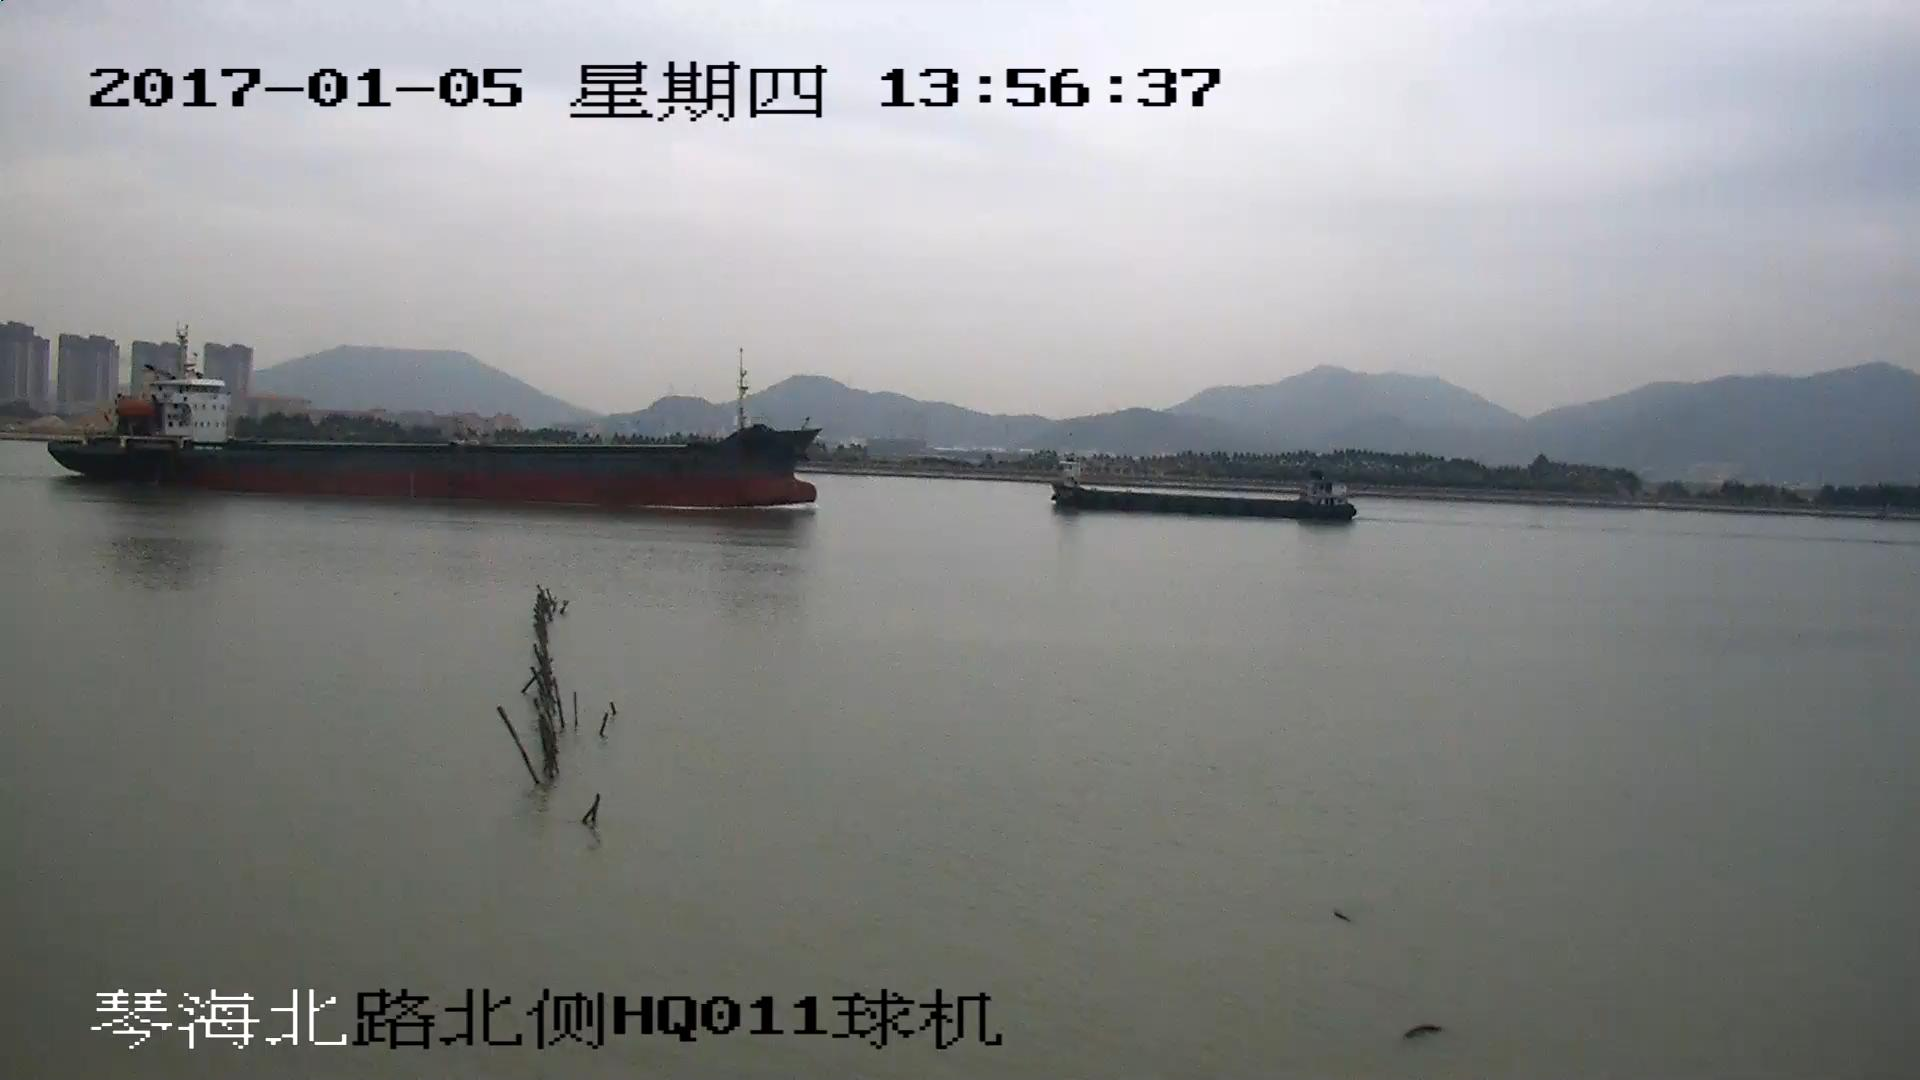general cargo ship: (43, 335, 808, 504), (1045, 461, 1353, 522)
